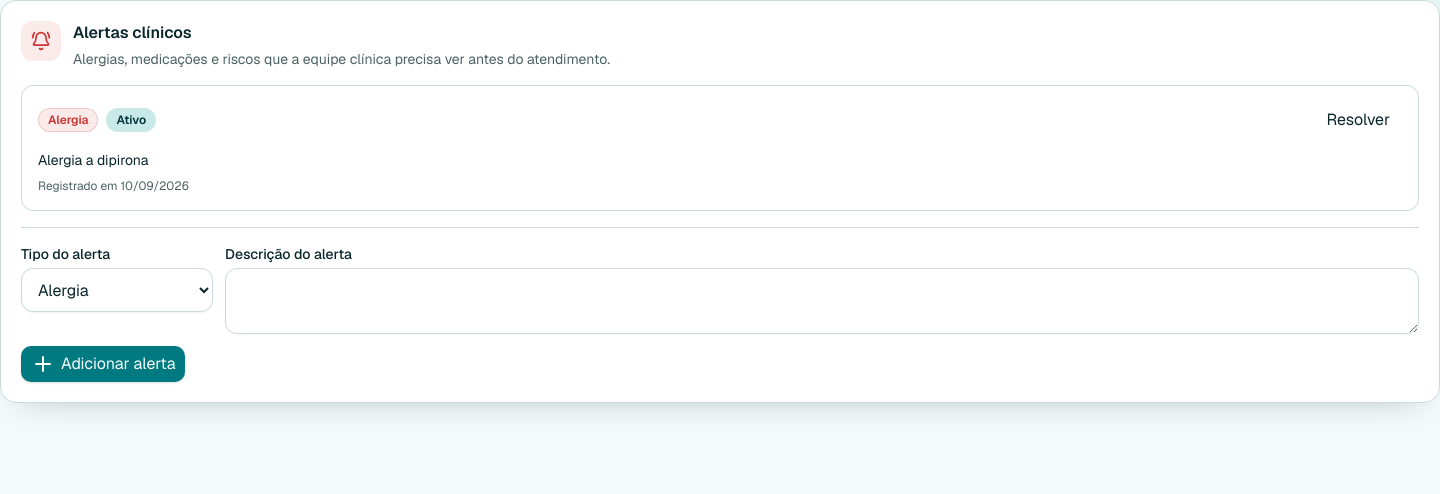
Test: PatientAlertsPanel › resolves an alert and updates its badge
Click the button "Resolver": (1358, 120) [1314,102,1402,138]
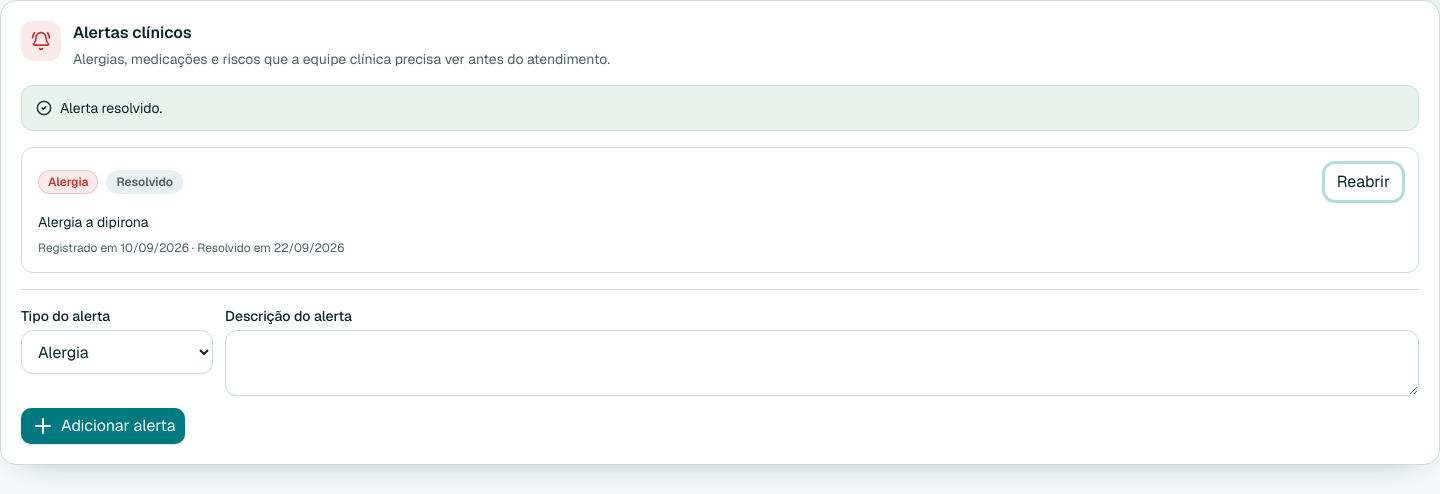
Check: the text "Resolvido" is shown, box [106,170,183,194]
